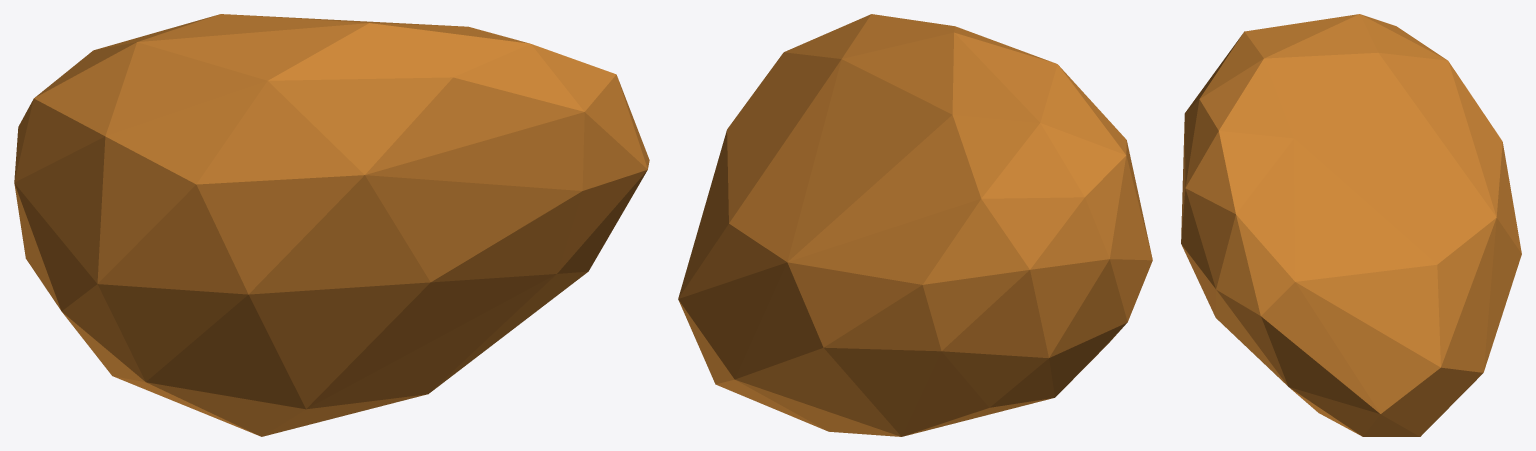
Rendered from Pootato_3.fbx.
3 views of the same model, side by side, from view 1: azimuth 30°, elevation 25°; view 2: azimuth 150°, elevation 25°; view 3: azimuth 270°, elevation 25° (orthographic). The views are drawn at different scales.
Parts seen in each view (by area): view 1: Pootato_3; view 2: Pootato_3; view 3: Pootato_3.
Part boxes in pixels (box(x1,y1,x2,y2)): Pootato_3: box(14, 14, 649, 436); Pootato_3: box(678, 14, 1152, 436); Pootato_3: box(1181, 14, 1521, 436).
Size of the model in its own units: 8.8 by 6.67 by 6.2.
